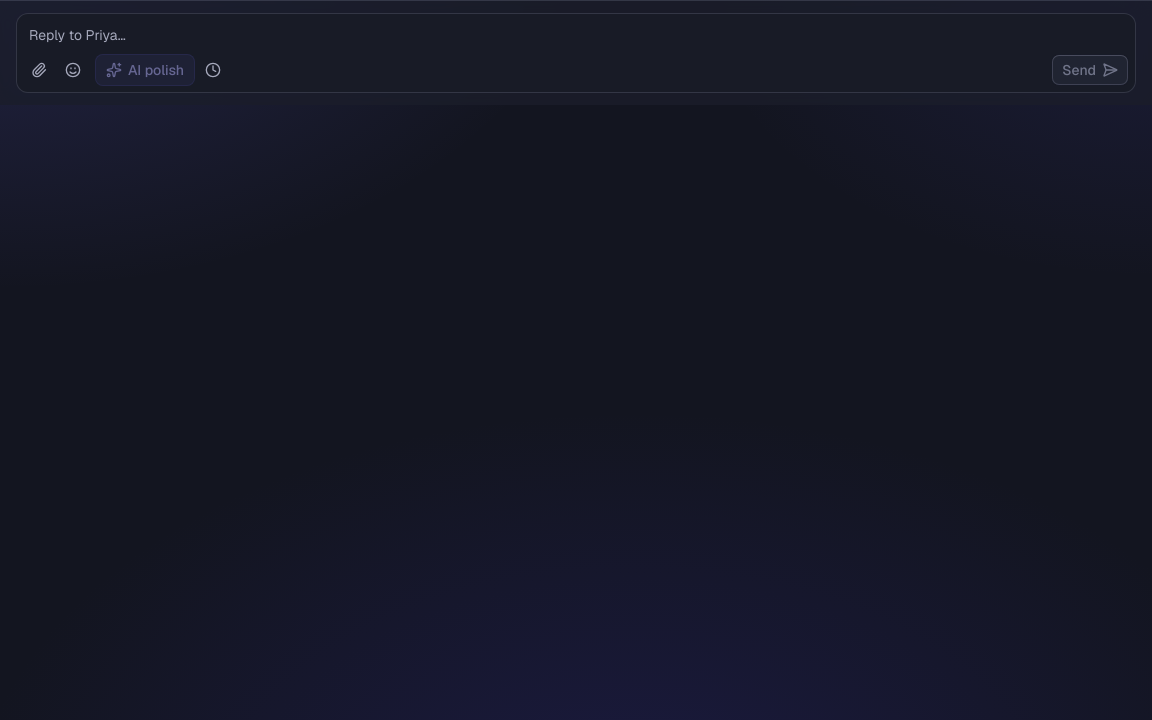
Test: Composer (UX-INB-07) › sends Instagram's heart sticker on its own, from the emoji popover
Type "Draft stays" into the text box named "Reply to Priya Nair" at (576, 34), box [17,14,1135,54]
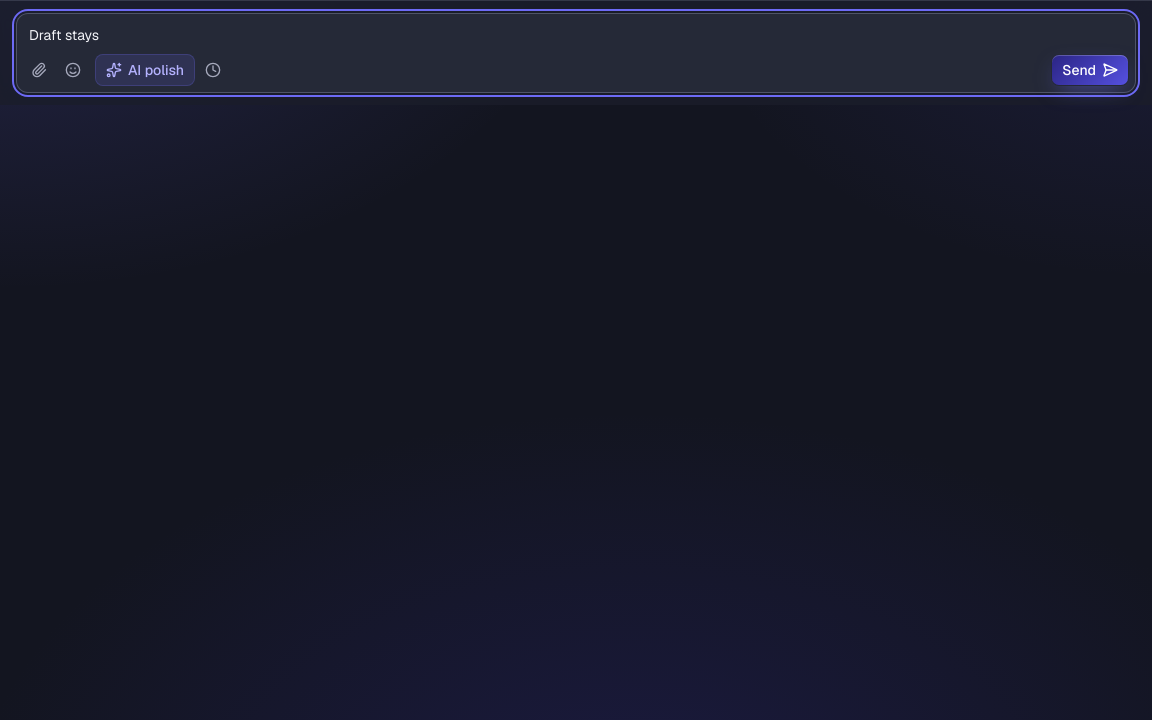
Check: the button "Send a heart" is not shown
Click the button named "Add emoji" at (73, 70), box [57,54,89,86]
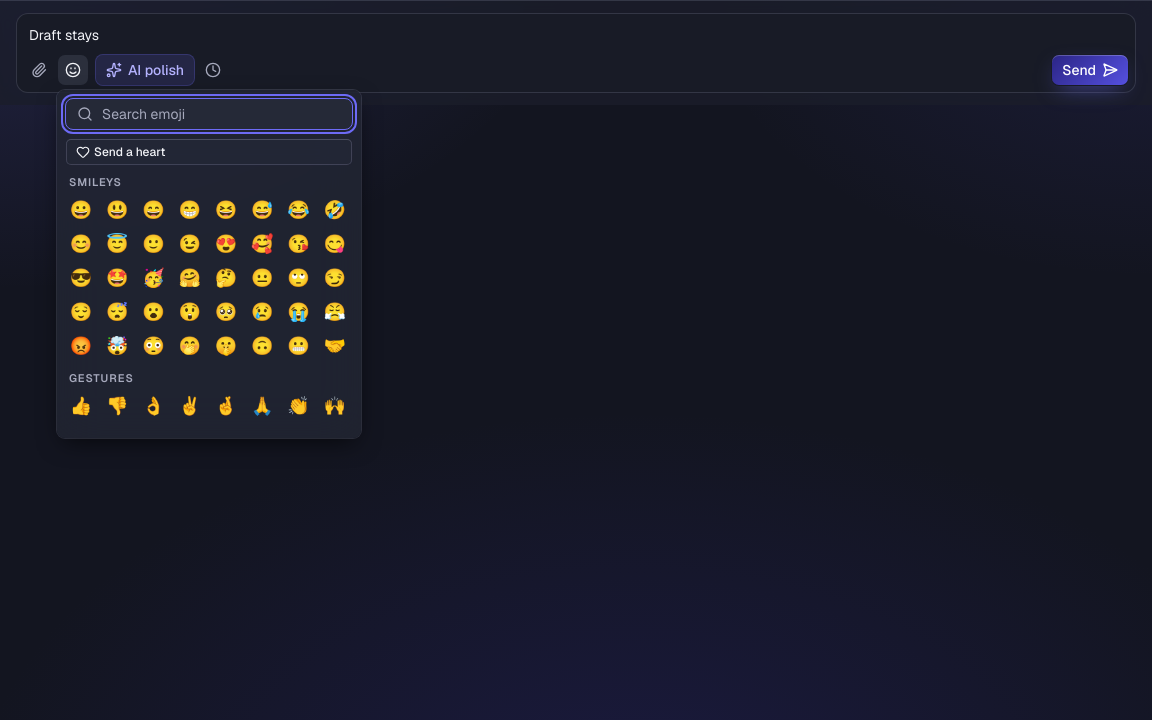
Click the button "Send a heart" at (130, 152), box [65,138,353,166]
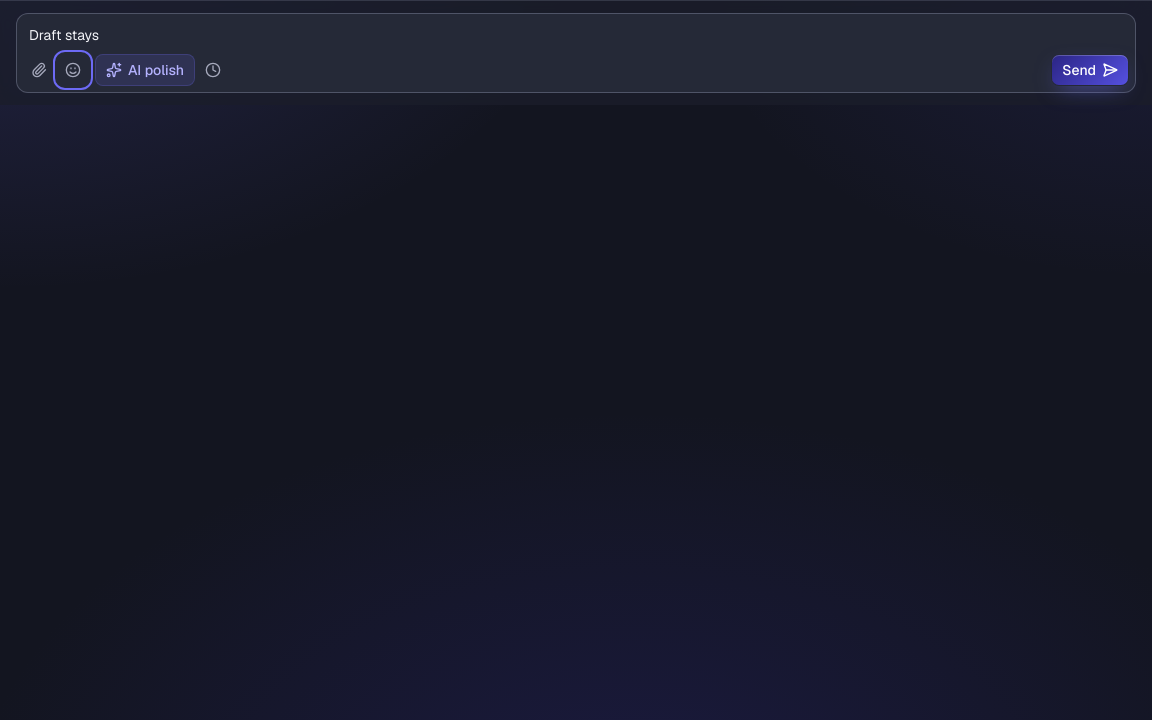
Check: the button "Send a heart" is gone
